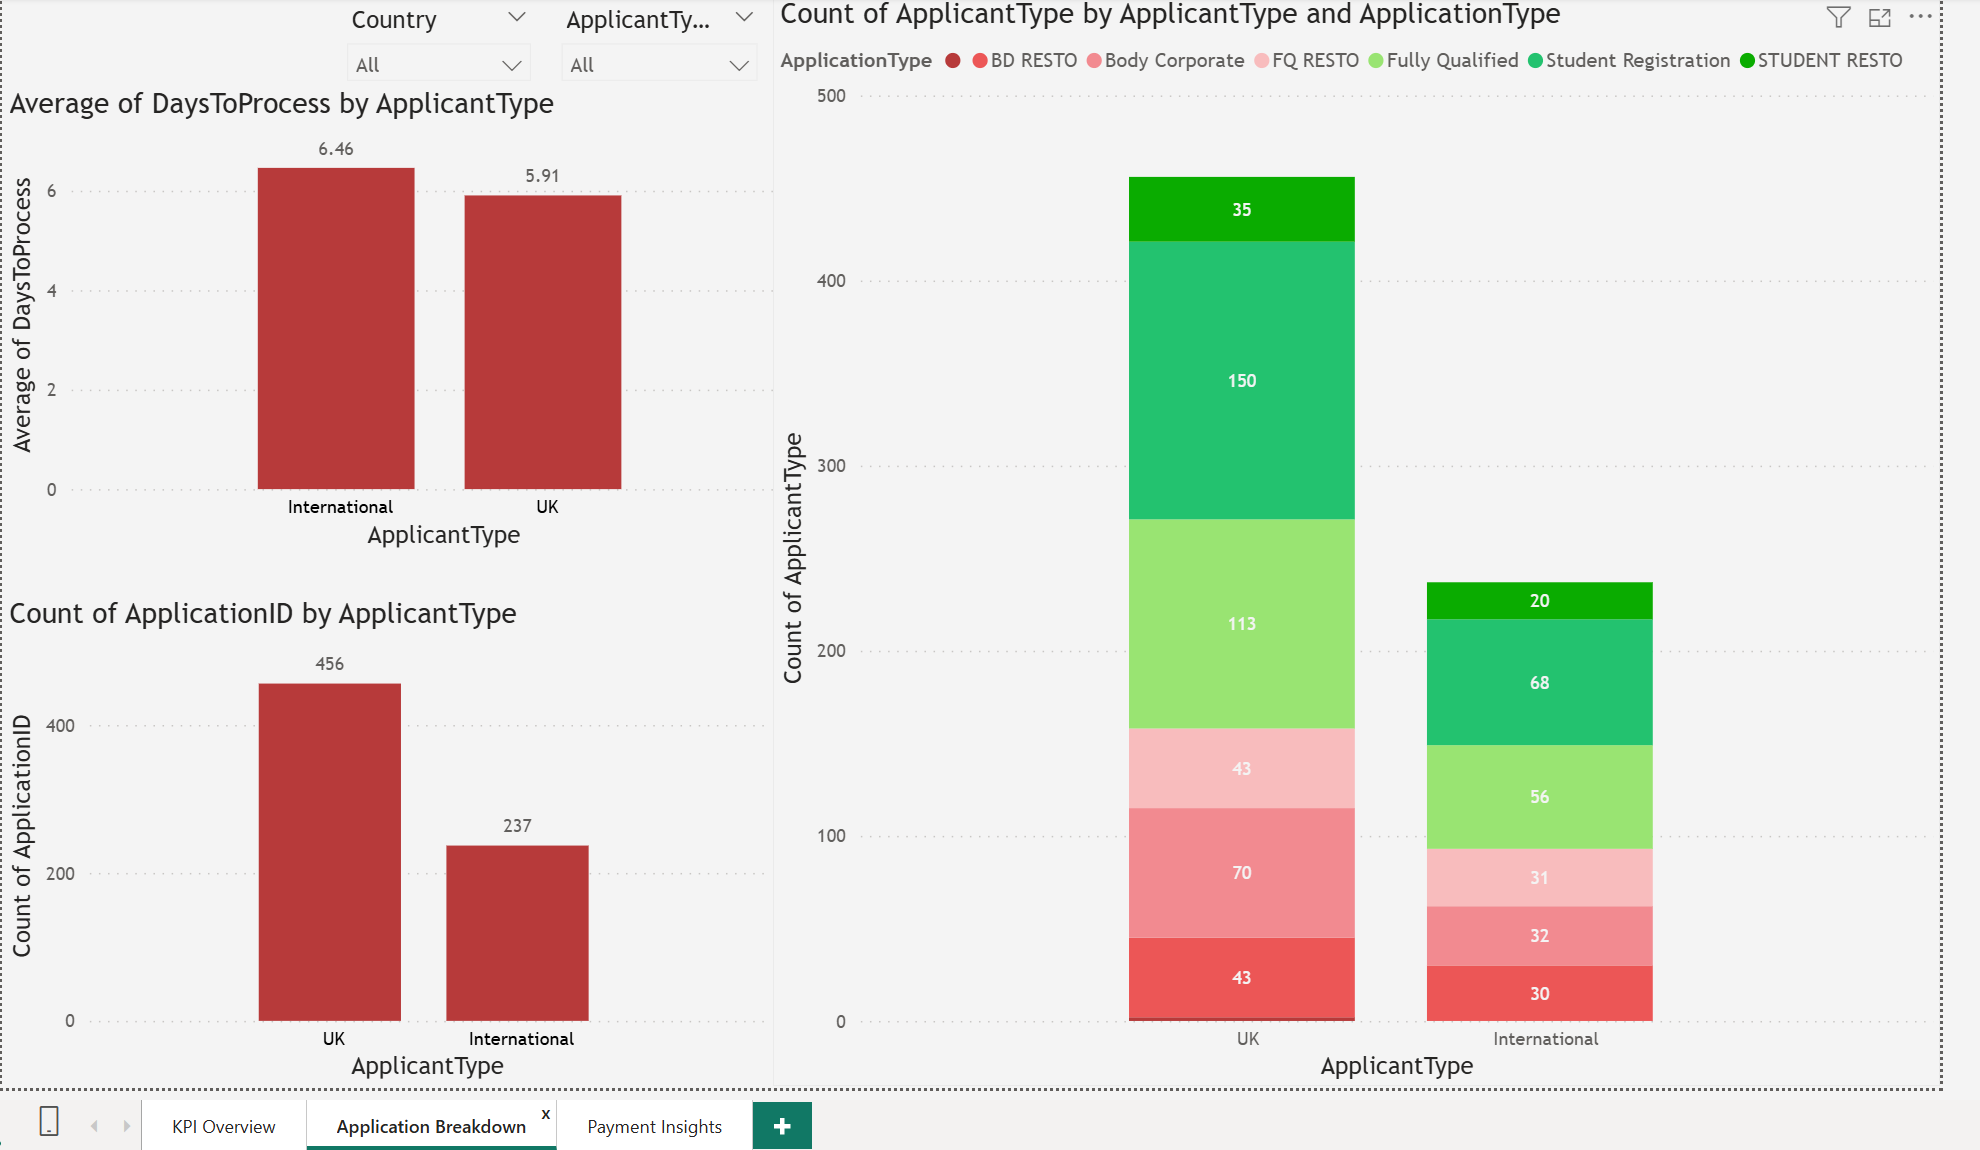

The page's visual inventory and layout, read from the dashboard file:
{"tool":"powerbi","page":{"name":"Application Breakdown","canvas":[1280,720],"ordinal":1},"visuals":[{"type":"slicer","fields":{"Values":["GOC Draft 1.ApplicantType"]},"box":[359.1,0,149.6,59.9],"z":0},{"type":"columnChart","fields":{"Category":["GOC Draft 1.ApplicantType"],"Y":["CountNonNull(GOC Draft 1.ApplicationID)"]},"box":[0,396.2,508.7,323.2],"z":1000},{"type":"columnChart","fields":{"Category":["GOC Draft 1.ApplicantType"],"Y":["Avg(GOC Draft 1.DaysToProcess)"]},"box":[0,59.9,542.2,308.8],"z":2000},{"type":"columnChart","fields":{"Category":["GOC Draft 1.ApplicantType"],"Series":["GOC Draft 1.ApplicationType"],"Y":["CountNonNull(GOC Draft 1.ApplicantType)"]},"box":[508.7,0,770.9,719.4],"z":3000},{"type":"slicer","fields":{"Values":["GOC Draft 1.Country"]},"box":[217.9,0,141.2,58.7],"z":4000}]}

Visuals, with their boxes on the page's 1280x720 design canvas (x1, y1, x2, y2). These are canvas units, not pixel positions in the 1980x1150 screenshot, which may show the page scaled, cropped or inside an application window:
slicer - GOC Draft 1.ApplicantType: l=359, t=0, r=509, b=60
columnChart - GOC Draft 1.ApplicantType x CountNonNull(GOC Draft 1.ApplicationID): l=0, t=396, r=509, b=719
columnChart - GOC Draft 1.ApplicantType x Avg(GOC Draft 1.DaysToProcess): l=0, t=60, r=542, b=369
columnChart - GOC Draft 1.ApplicantType x GOC Draft 1.ApplicationType: l=509, t=0, r=1280, b=719
slicer - GOC Draft 1.Country: l=218, t=0, r=359, b=59
